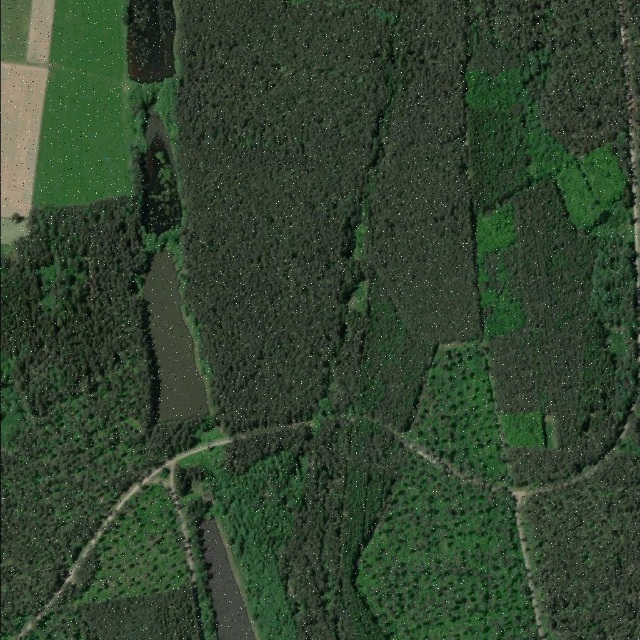vegetation: (0, 80, 209, 640), (173, 0, 396, 440), (316, 0, 511, 495), (468, 0, 639, 489), (173, 417, 541, 640), (519, 392, 640, 640), (17, 487, 200, 640)
